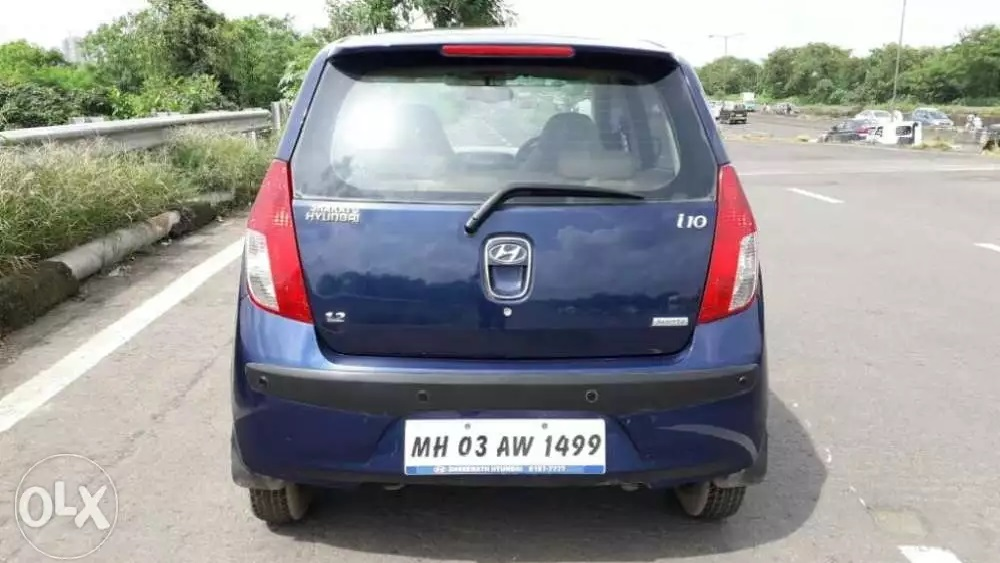licenseplate: (401, 415, 613, 477)
